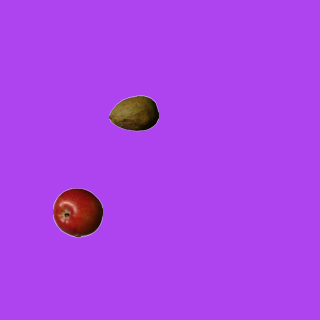Apple Braeburn: (52, 187, 102, 237)
Papaya: (108, 88, 158, 138)
